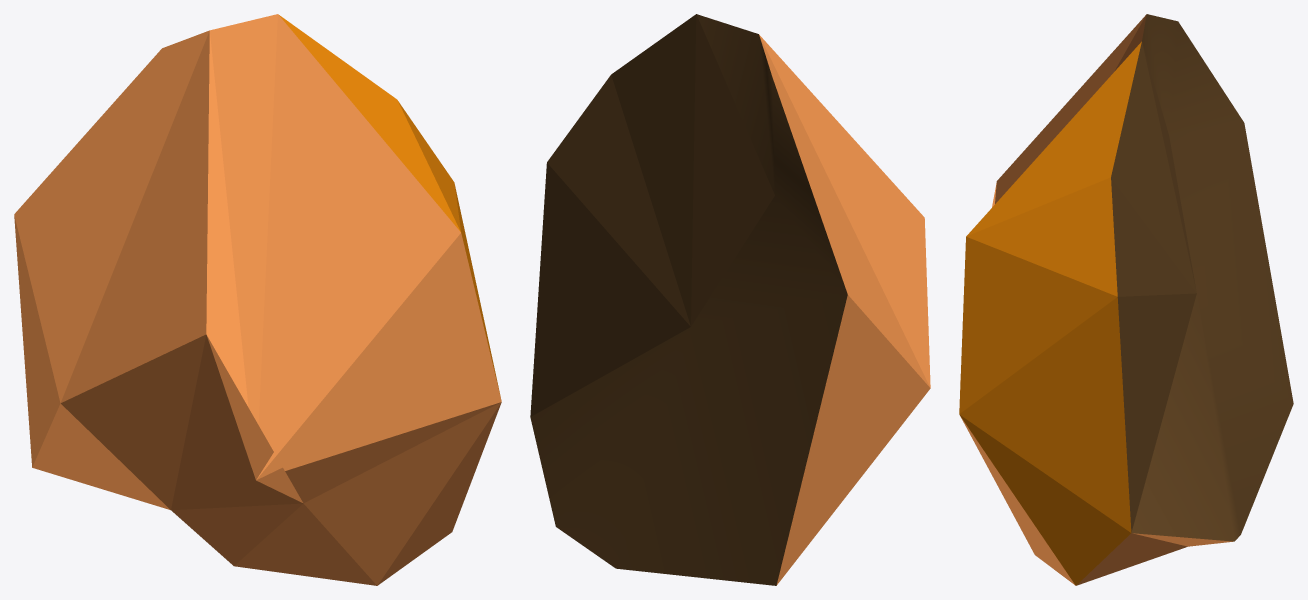
File: peach sliced.fbx
The picture shows the model from 3 angles, left to right: view 1: azimuth 30°, elevation 25°; view 2: azimuth 150°, elevation 25°; view 3: azimuth 270°, elevation 25°; orthographic projection. The views are drawn at different scales.
Visible parts, largest first — view 1: Peach_4_1; view 2: Peach_4_1; view 3: Peach_4_1.
Part boxes in pixels (x1,y1,x2,y2): Peach_4_1: (14,14,501,585); Peach_4_1: (530,14,930,585); Peach_4_1: (959,14,1293,585).
Size of the model in its own units: 17.79 by 22.98 by 14.06.
